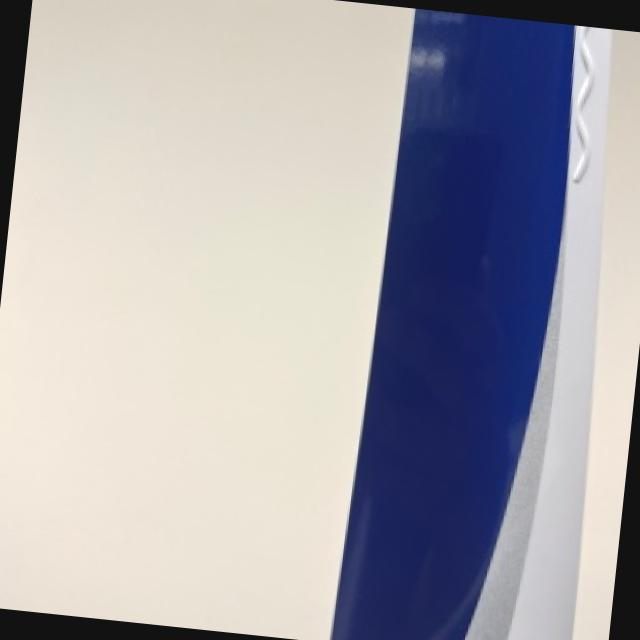healthy: (0, 0, 413, 640), (334, 8, 610, 640)
